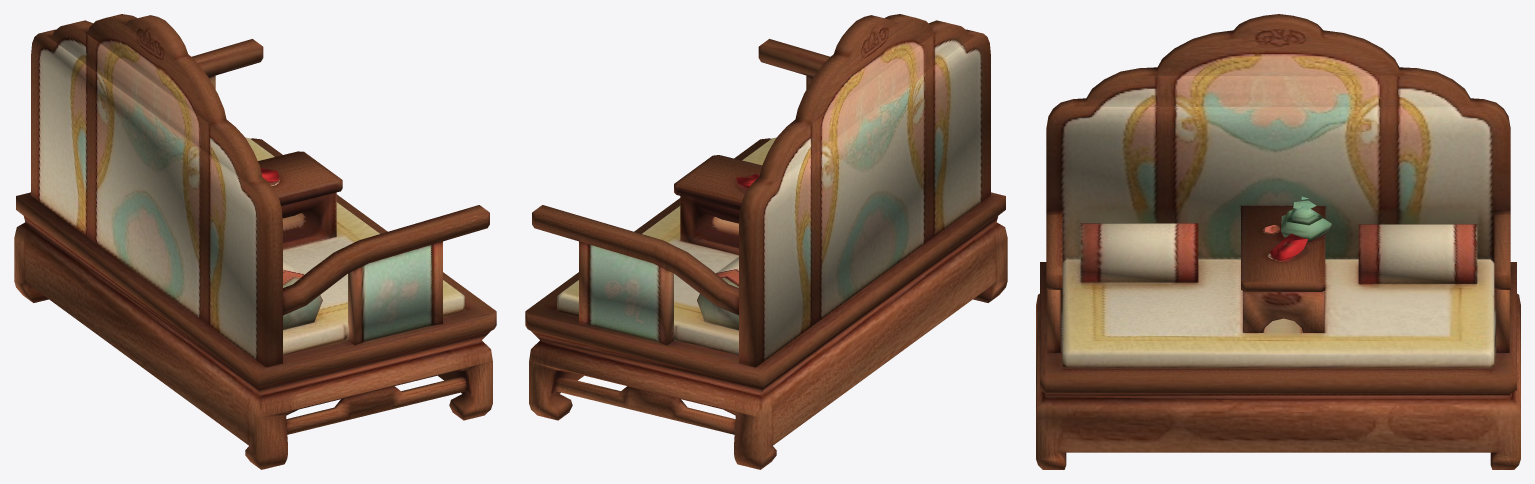
File: 贵妃椅子.fbx
3 views of the same model, side by side, from view 1: azimuth 30°, elevation 25°; view 2: azimuth 150°, elevation 25°; view 3: azimuth 270°, elevation 25° (orthographic).
Visible parts, largest first — view 1: tripo_node_12877294; view 2: tripo_node_12877294; view 3: tripo_node_12877294.
Boxes of the visible parts, bbox=[...] form: tripo_node_12877294: bbox=[14, 14, 496, 469]; tripo_node_12877294: bbox=[525, 14, 1007, 469]; tripo_node_12877294: bbox=[1036, 14, 1520, 469].
Size of the model in its own units: 56.84 by 99.8 by 79.88.
1 material, 1 textured.
